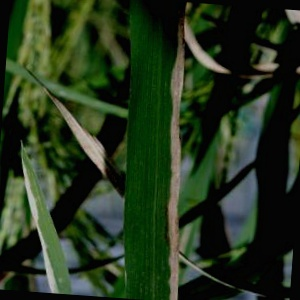Leaf_Blast: (122, 2, 191, 298)
